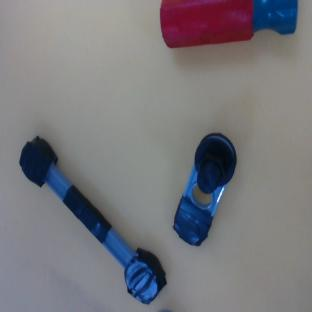part_1_bad: (162, 127, 245, 249)
part_2_good: (160, 0, 297, 47)
part_3_bad: (5, 132, 176, 308)
